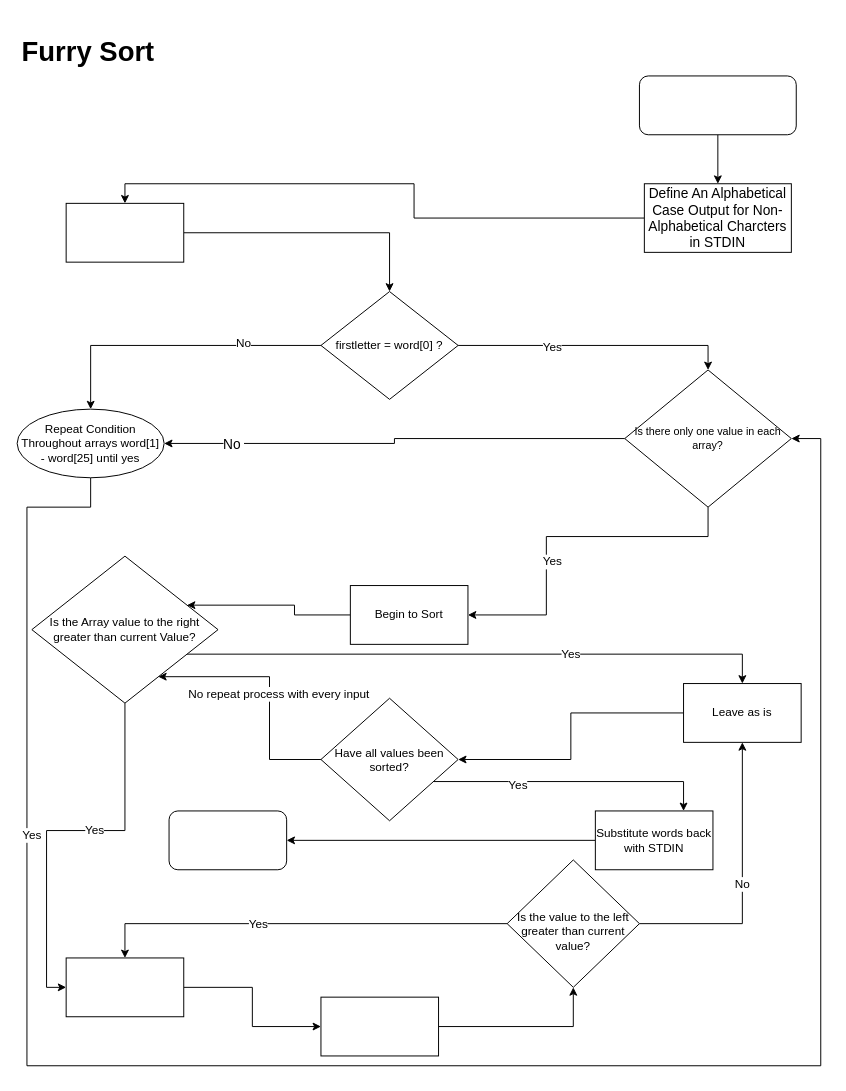
Some shapes in this 846 by 1091 pixel diagram are drawn without their labels. Each missing label, with the box of its shape:
Insert overrided value to the right in the shifted values previous postion: (320, 996, 439, 1056)
Shift value to right: (65, 957, 184, 1017)
STDIN: (638, 75, 796, 135)
STDOUT: (168, 810, 287, 870)
Use New Words As STDIN: (65, 202, 184, 262)
